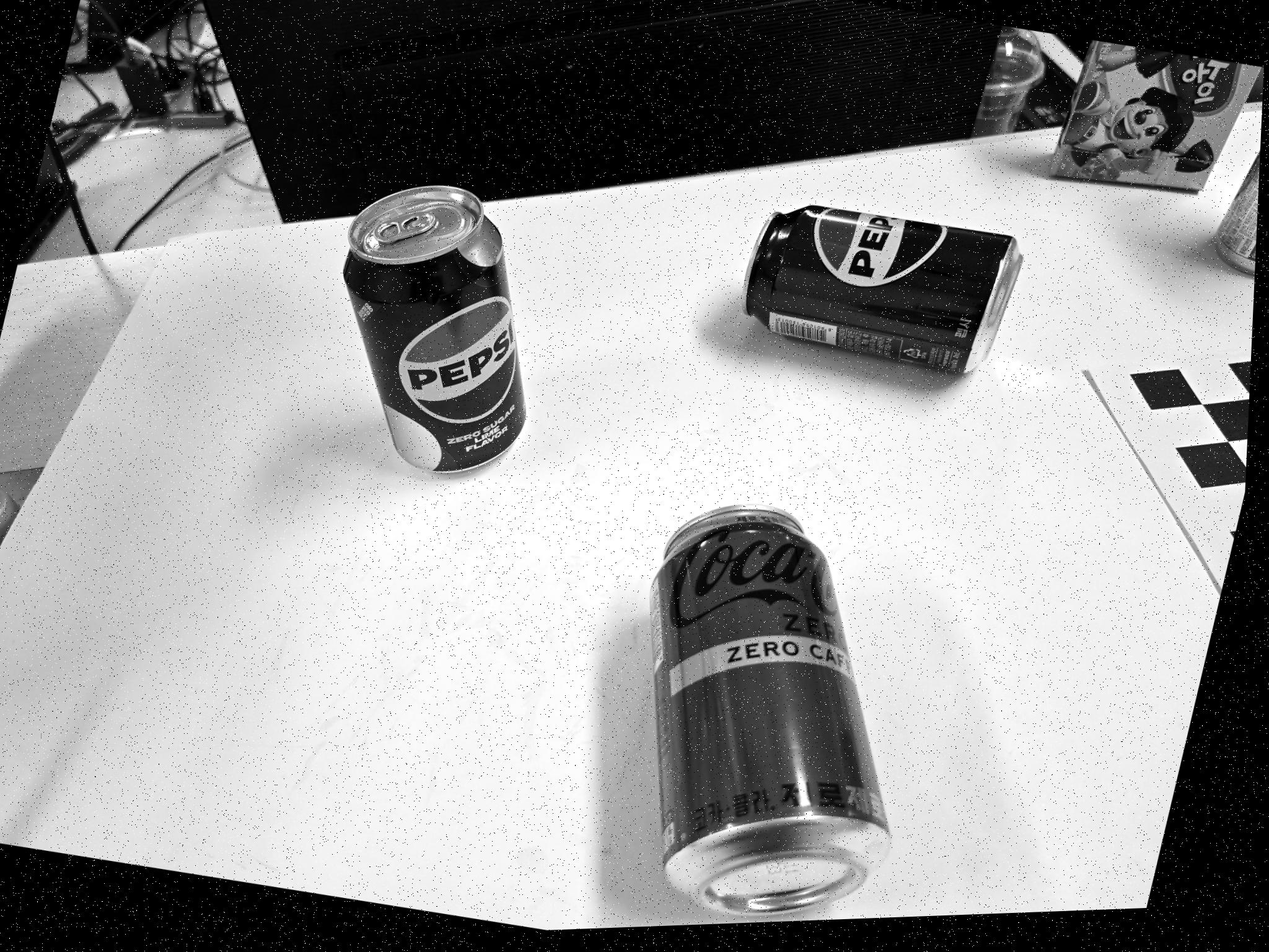can_coke_decaf: (648, 504, 889, 918)
can_pepsi: (741, 205, 1024, 374)
can_pepsi_zero: (341, 185, 527, 473)
